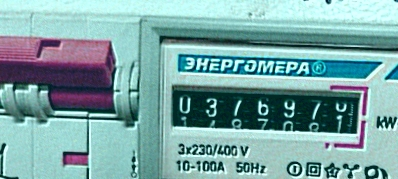0: (178, 93, 192, 115)
1: (334, 114, 346, 134)
3: (205, 98, 220, 119)
6: (257, 94, 272, 118)
7: (230, 95, 246, 119), (308, 98, 324, 122)
9: (282, 97, 297, 119)
screen: (163, 73, 373, 153)
